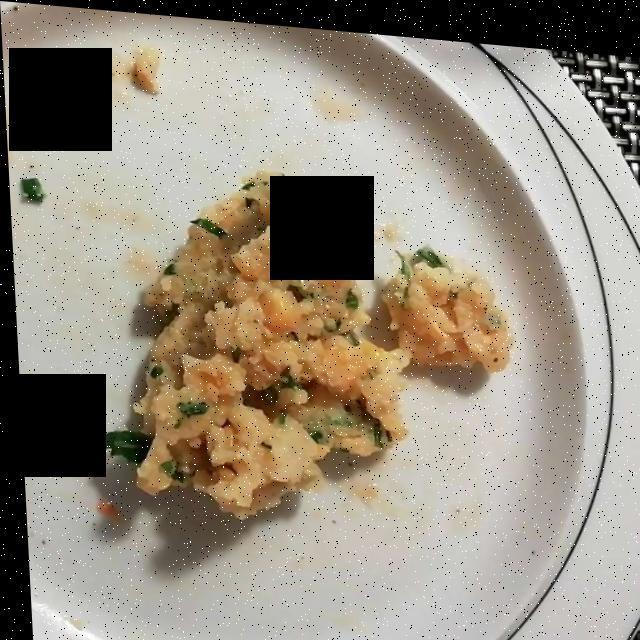chives: (98, 425, 159, 460)
corn: (257, 274, 306, 347)
polenta: (128, 166, 501, 522)
